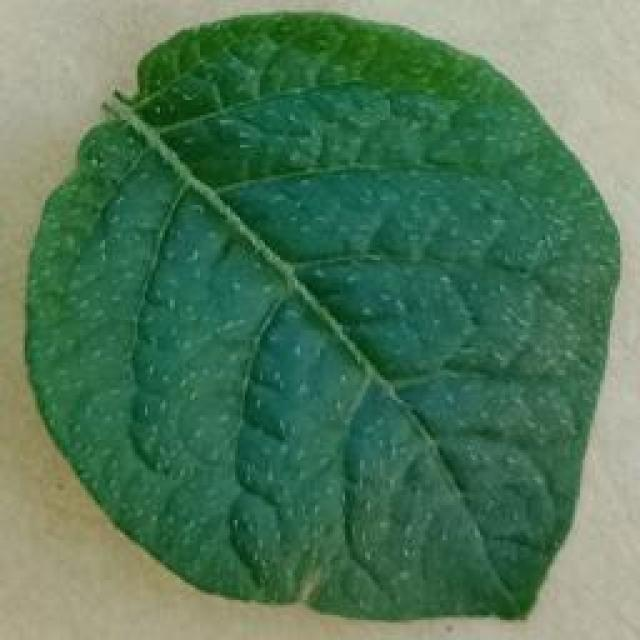Potato_Healthy: (24, 13, 613, 622)
